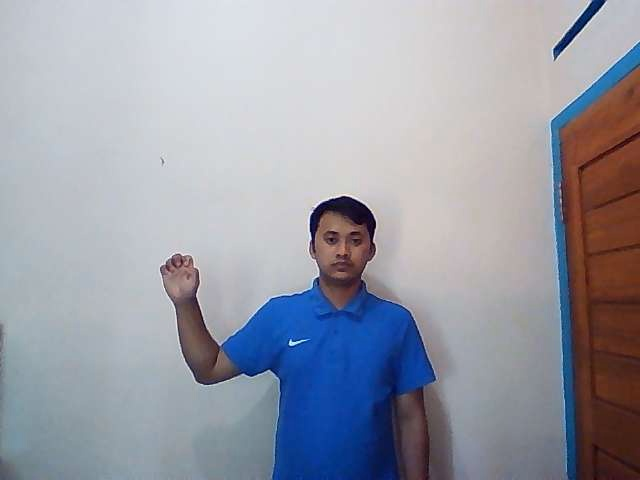E: (158, 252, 202, 302)
